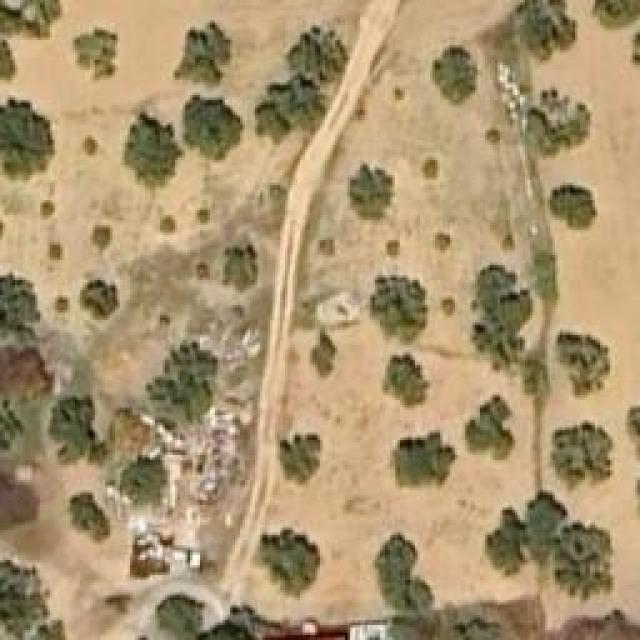Tree: (470, 268, 533, 368), (148, 343, 218, 423), (0, 98, 55, 183), (253, 80, 326, 143), (553, 420, 616, 490), (388, 430, 458, 490), (558, 525, 613, 600), (260, 527, 320, 595), (370, 275, 428, 343), (0, 557, 50, 635), (50, 398, 108, 461), (555, 333, 613, 396), (463, 395, 518, 460), (175, 23, 233, 83), (528, 95, 588, 153), (128, 117, 178, 185), (520, 487, 563, 565), (183, 95, 236, 158), (508, 0, 568, 55), (375, 543, 425, 608), (480, 508, 523, 578), (0, 270, 40, 343), (290, 23, 343, 76), (382, 352, 430, 410), (347, 160, 395, 218), (433, 48, 478, 108), (280, 432, 323, 490), (73, 28, 118, 83), (550, 183, 598, 228), (118, 452, 163, 500), (152, 597, 202, 640), (70, 490, 110, 543), (450, 608, 510, 638), (78, 280, 118, 320), (592, 0, 639, 32), (225, 250, 253, 288), (310, 333, 333, 373), (75, 135, 105, 158), (95, 222, 115, 250), (155, 308, 173, 331), (158, 215, 178, 235), (317, 235, 335, 255), (48, 240, 63, 263), (195, 203, 210, 223), (435, 232, 450, 250), (195, 265, 210, 283)
